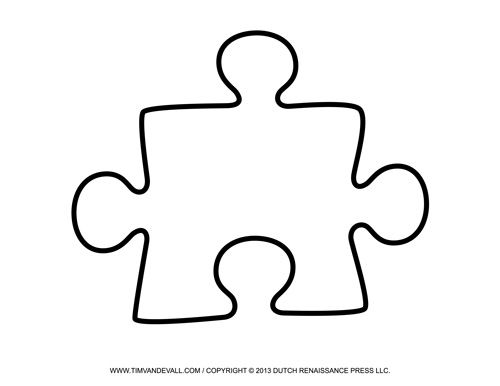puzzle piece: (53, 18, 444, 332)
